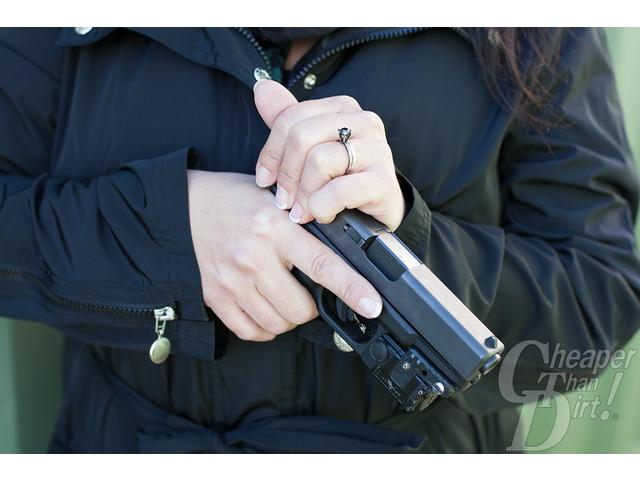pistol: (273, 193, 503, 422)
